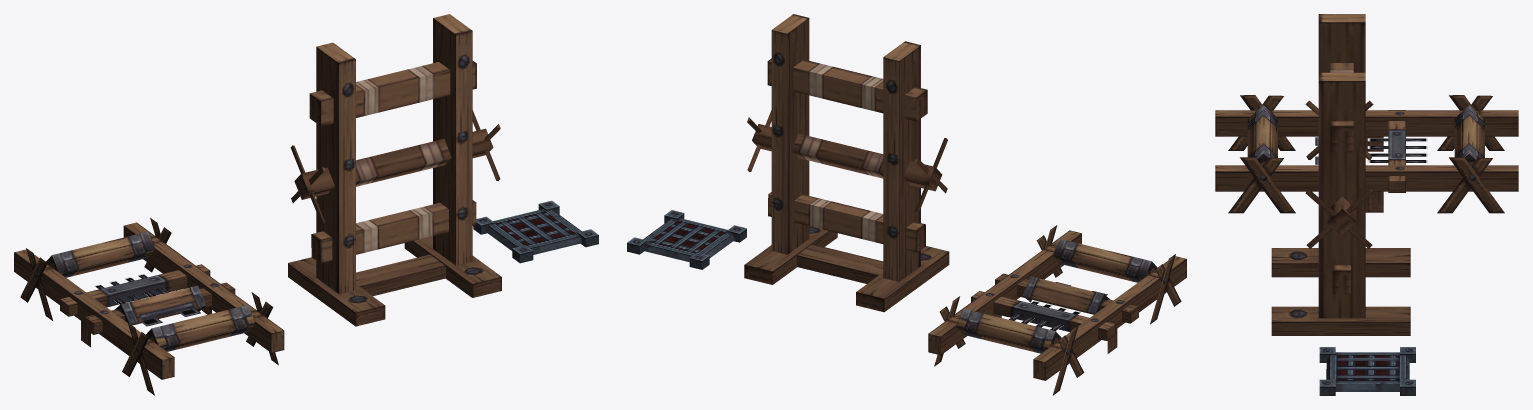
File: 2_DG_XingJu_01.FBX
3 renders of one model, left to right at view 1: azimuth 30°, elevation 25°; view 2: azimuth 150°, elevation 25°; view 3: azimuth 270°, elevation 25°, orthographic. The views are drawn at different scales.
Parts seen in each view (by area): view 1: 2_DG_XingJu_02, 2_DG_XingJu_01, 2_DG_XingJu_03; view 2: 2_DG_XingJu_02, 2_DG_XingJu_01, 2_DG_XingJu_03; view 3: 2_DG_XingJu_02, 2_DG_XingJu_01, 2_DG_XingJu_03.
Part boxes in pixels (box(x1,y1,x2,y2)): 2_DG_XingJu_02: box(288, 14, 501, 326); 2_DG_XingJu_01: box(14, 218, 284, 395); 2_DG_XingJu_03: box(473, 200, 598, 263); 2_DG_XingJu_02: box(744, 14, 949, 312); 2_DG_XingJu_01: box(928, 225, 1186, 395); 2_DG_XingJu_03: box(627, 210, 746, 269); 2_DG_XingJu_02: box(1271, 14, 1410, 335); 2_DG_XingJu_01: box(1215, 95, 1518, 213); 2_DG_XingJu_03: box(1319, 347, 1415, 395).
Size of the model in its own units: 849 by 400 by 437.
